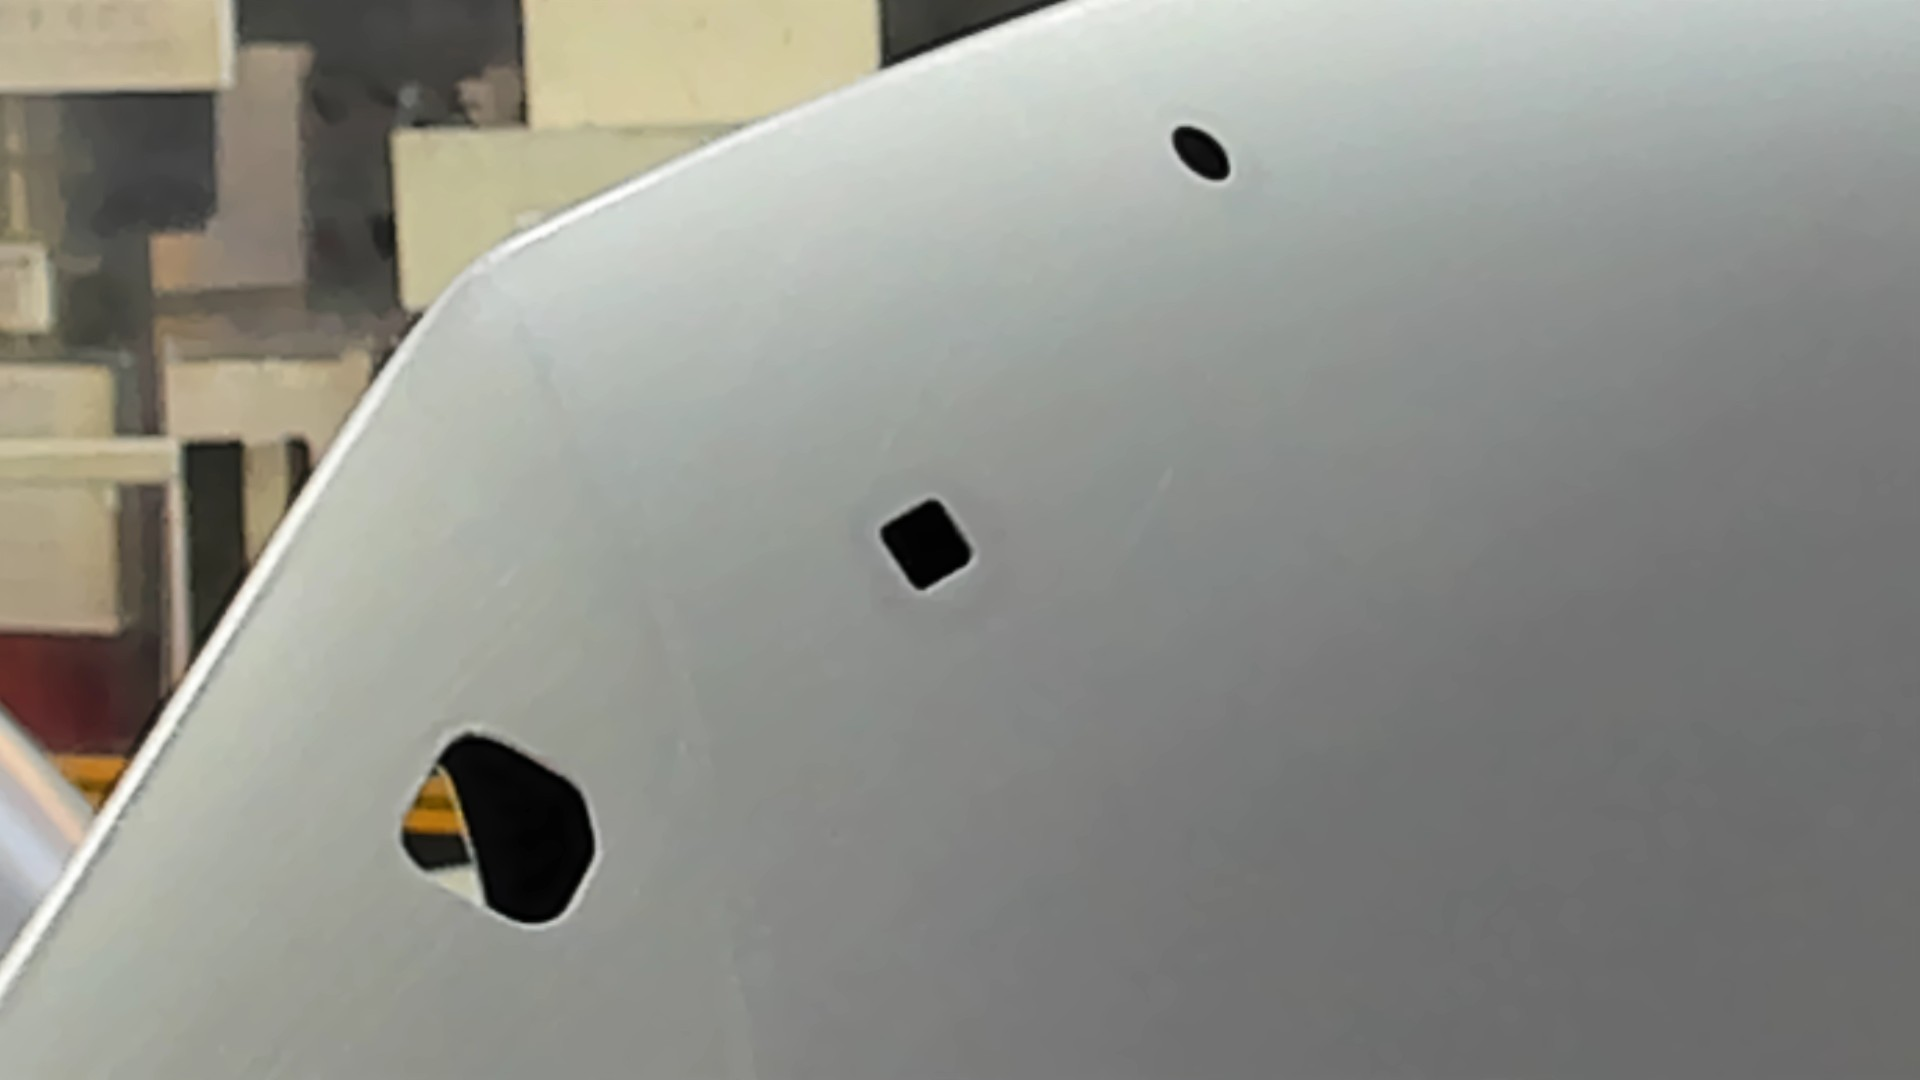capo: (985, 189, 1920, 1080)
chico: (1168, 115, 1233, 186)
grande: (389, 723, 607, 942)
mediano: (873, 491, 978, 600)
